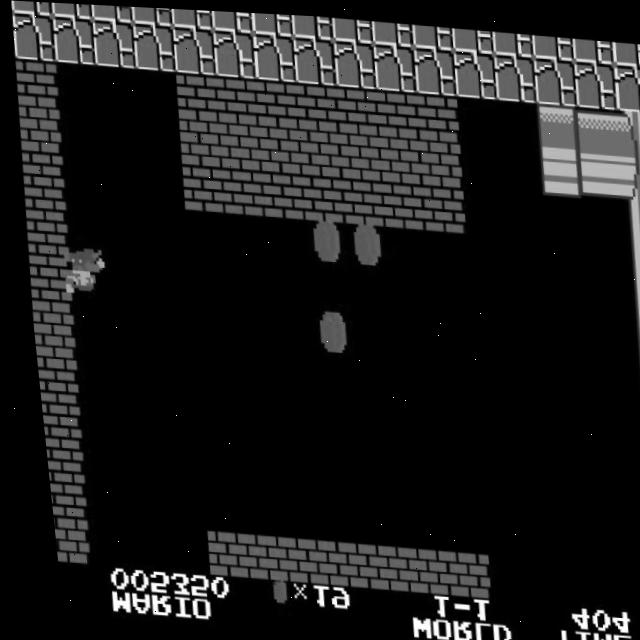1- brick_block: (193, 526, 240, 575), (174, 115, 221, 164), (172, 70, 219, 119), (233, 529, 280, 578), (214, 118, 261, 167), (212, 73, 259, 122), (273, 532, 320, 581), (254, 121, 301, 170), (252, 76, 299, 125), (313, 535, 360, 584), (292, 79, 339, 128), (353, 538, 400, 587), (332, 82, 379, 131), (374, 130, 421, 179), (372, 85, 419, 134), (412, 88, 459, 137), (216, 165, 263, 213), (256, 168, 303, 216), (294, 125, 341, 173), (334, 128, 381, 176), (376, 177, 423, 225), (416, 180, 463, 228), (21, 241, 67, 290), (18, 195, 64, 244), (12, 58, 58, 107), (394, 541, 440, 590), (434, 544, 480, 593), (176, 162, 223, 209), (16, 150, 62, 198), (14, 104, 60, 152), (297, 171, 343, 219), (337, 174, 383, 222), (415, 134, 461, 182), (23, 287, 68, 335), (27, 332, 70, 381), (31, 378, 73, 427), (38, 470, 77, 517), (35, 424, 74, 471), (42, 515, 79, 563)
11- little_mario: (53, 246, 102, 297)
14- pipe: (573, 100, 620, 149), (574, 146, 621, 194), (612, 104, 640, 152), (614, 150, 640, 197), (616, 196, 640, 243), (619, 240, 640, 289), (620, 286, 640, 335), (623, 332, 640, 380), (625, 377, 640, 426), (627, 423, 640, 472), (629, 469, 640, 517), (632, 515, 640, 563), (634, 560, 640, 609)
15- pipe_head: (535, 143, 582, 192), (533, 97, 580, 146)
17- undestructible_block: (49, 15, 96, 64), (89, 18, 136, 67), (129, 21, 176, 70), (169, 24, 216, 73), (290, 33, 337, 82), (330, 36, 377, 85), (370, 39, 417, 88), (410, 42, 457, 91), (450, 45, 497, 94), (490, 48, 537, 97), (530, 52, 577, 100), (9, 12, 55, 61), (210, 27, 256, 76), (250, 30, 296, 79), (571, 54, 617, 103), (610, 58, 640, 106), (330, 14, 374, 40), (370, 17, 414, 43), (450, 23, 494, 49), (490, 26, 534, 52), (530, 29, 574, 55), (570, 32, 614, 58), (290, 12, 334, 37), (410, 20, 454, 45), (250, 10, 294, 33), (170, 7, 214, 28), (210, 9, 254, 30), (130, 5, 173, 24), (90, 4, 133, 21), (610, 36, 640, 60), (50, 2, 93, 18), (10, 0, 52, 15)
2- coin: (298, 216, 345, 265), (338, 219, 385, 268), (303, 307, 349, 356)
